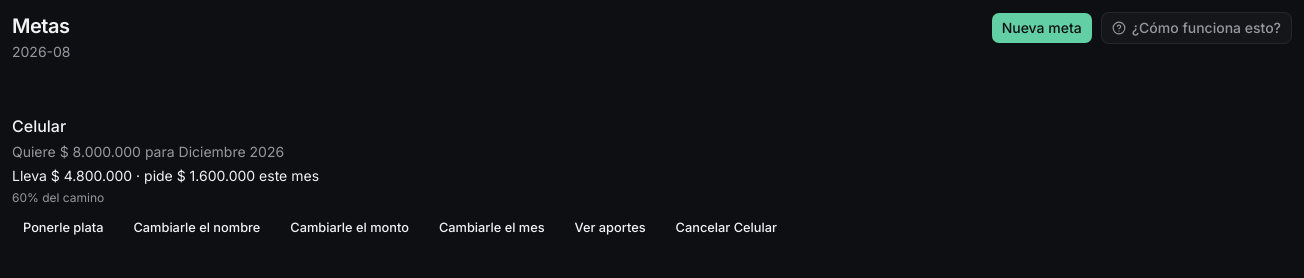
Test: AC-42 — a contribution is a listed record, and it can be removed › A meta nobody put money into says so
Step 1. Click the button "Ver aportes" → (610, 228), box [564,214,657,242]
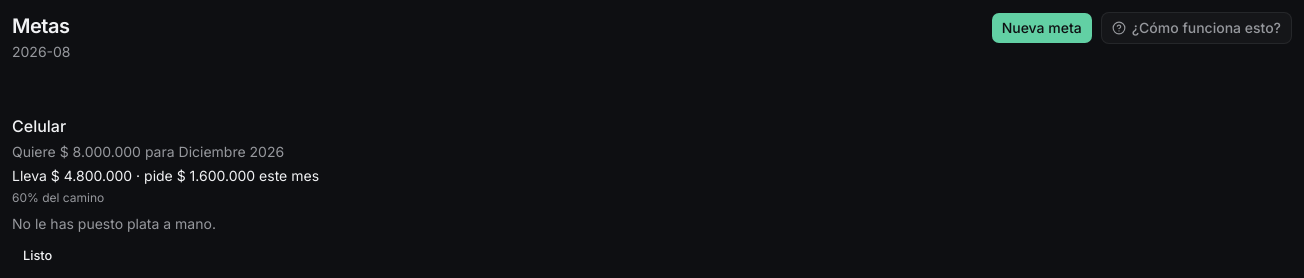
Expected: the text "No le has puesto plata a mano." is shown, [12,215,216,232]
